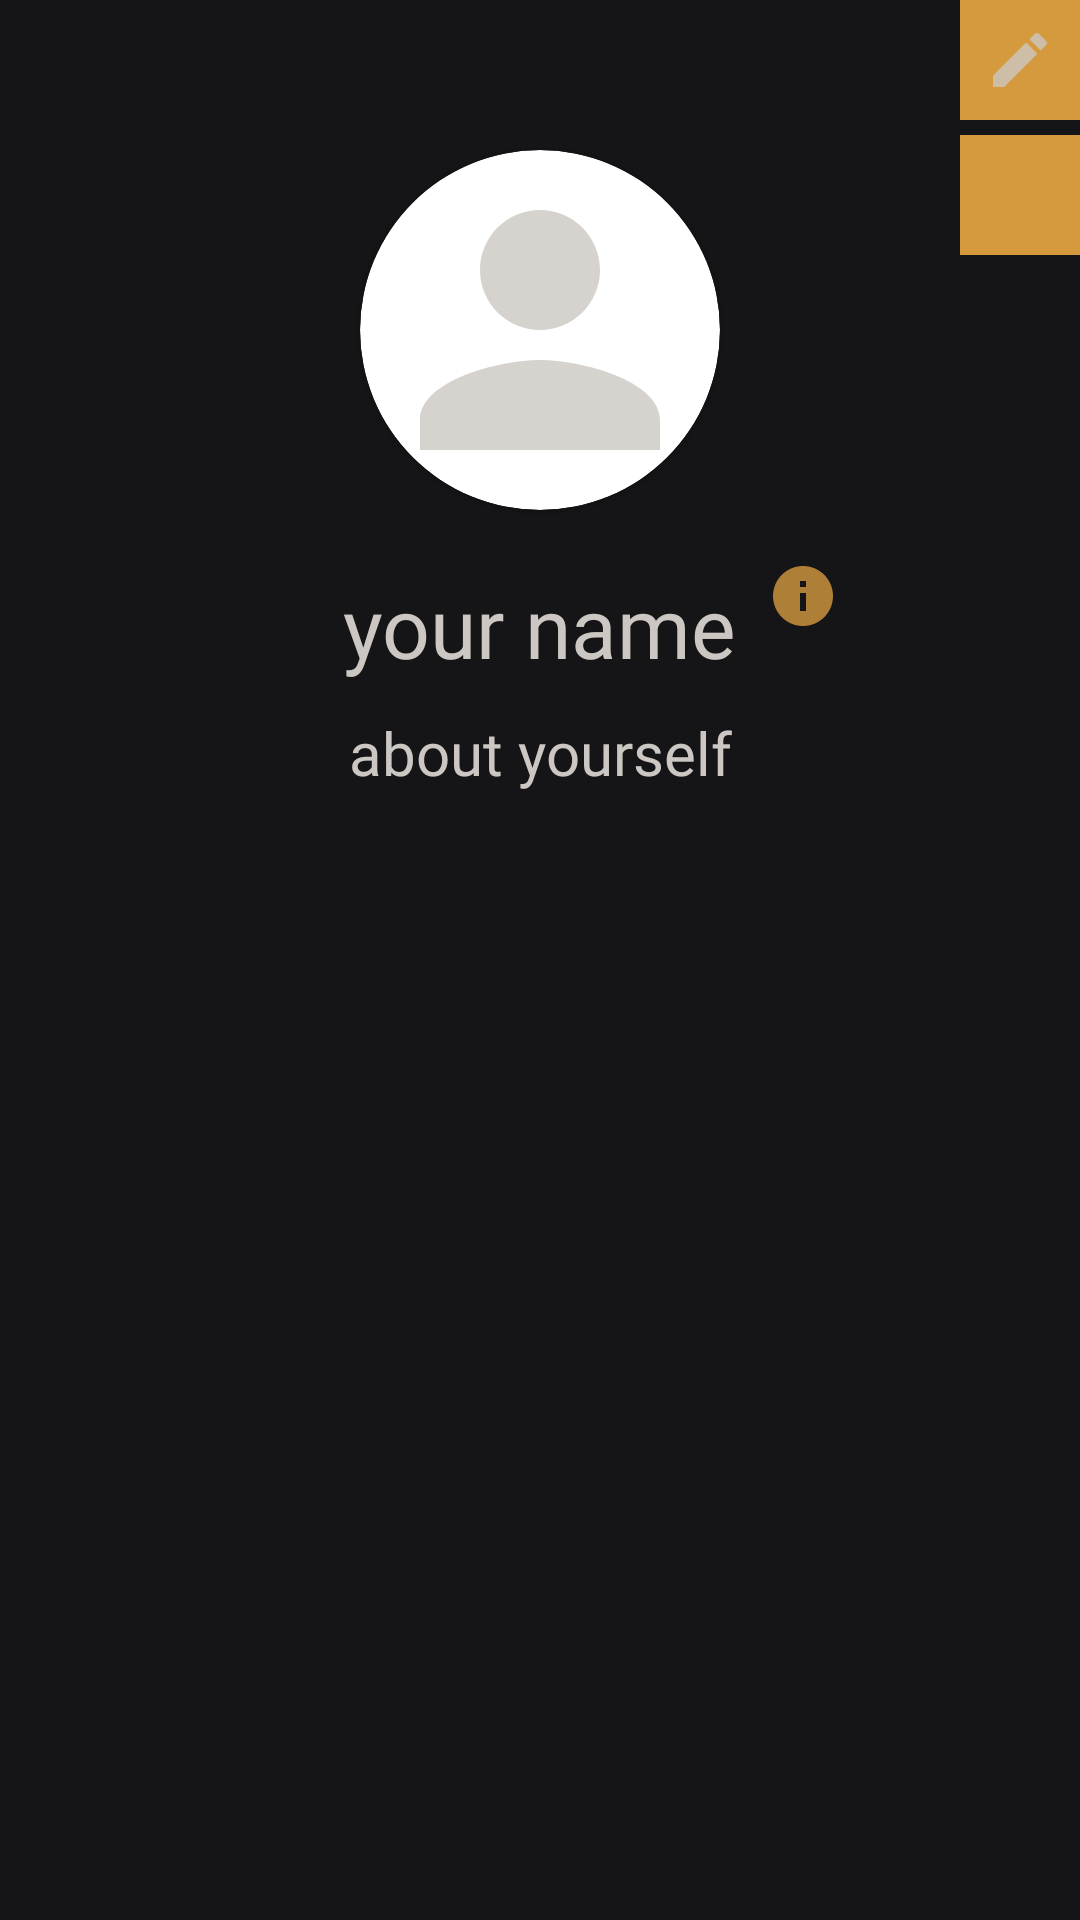

Named icons in this screenshot (1080px×1920px) and their bounding boxes, (x1,y1,x2,y2):
edit: (960,0,1080,120)
info: (773,566,833,626)
profile: (360,150,720,510)
